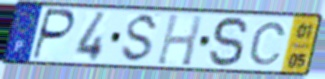4: (72, 10, 106, 63)
C: (247, 20, 289, 67)
H: (154, 12, 205, 68)
P: (29, 7, 77, 62)
S: (207, 15, 251, 69), (119, 12, 162, 65)
